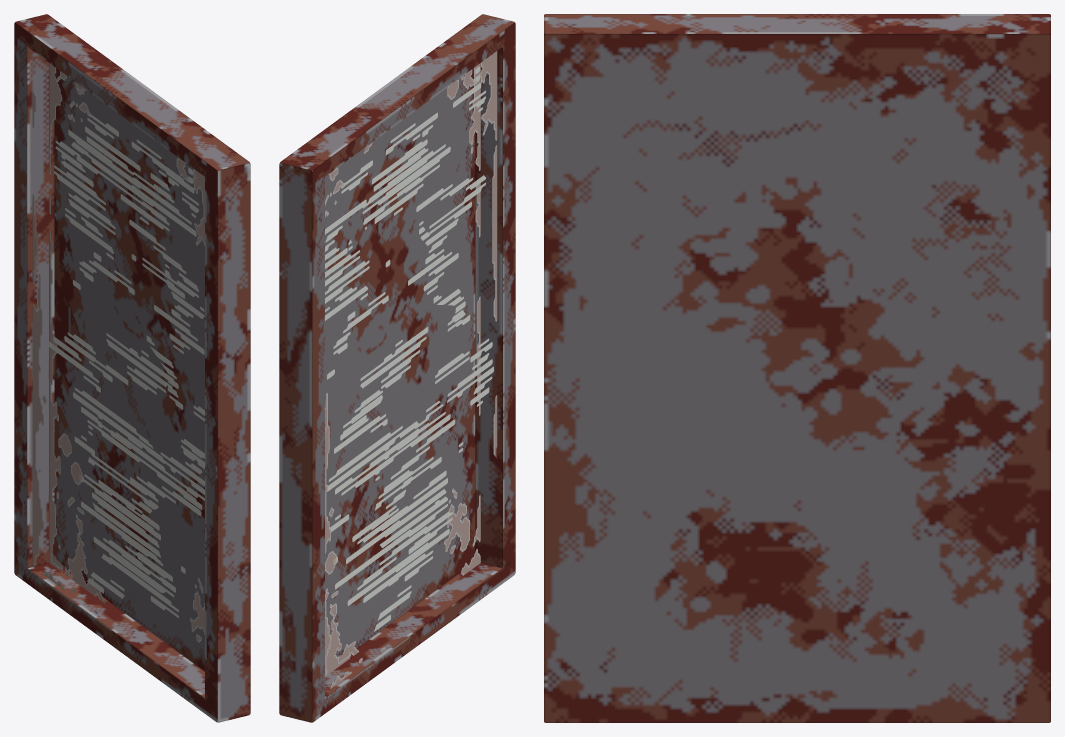
Rendered from PosterHolderBroken.fbx.
3 views of the same model, side by side, from view 1: azimuth 30°, elevation 25°; view 2: azimuth 150°, elevation 25°; view 3: azimuth 270°, elevation 25° (orthographic). The views are drawn at different scales.
Parts seen in each view (by area): view 1: posterFrame, ImagePlane, Broken Glass; view 2: posterFrame, ImagePlane, Broken Glass; view 3: posterFrame.
Part boxes in pixels (bbox=[...]): posterFrame: bbox=[14, 14, 250, 722]; ImagePlane: bbox=[49, 63, 204, 642]; Broken Glass: bbox=[32, 84, 204, 614]; posterFrame: bbox=[279, 14, 515, 722]; ImagePlane: bbox=[325, 63, 480, 675]; Broken Glass: bbox=[325, 51, 497, 688]; posterFrame: bbox=[544, 14, 1050, 722].
Bounding box in the file's own units: 18.75 × 300 × 200.
Materials: 1 (1 with a texture image).
